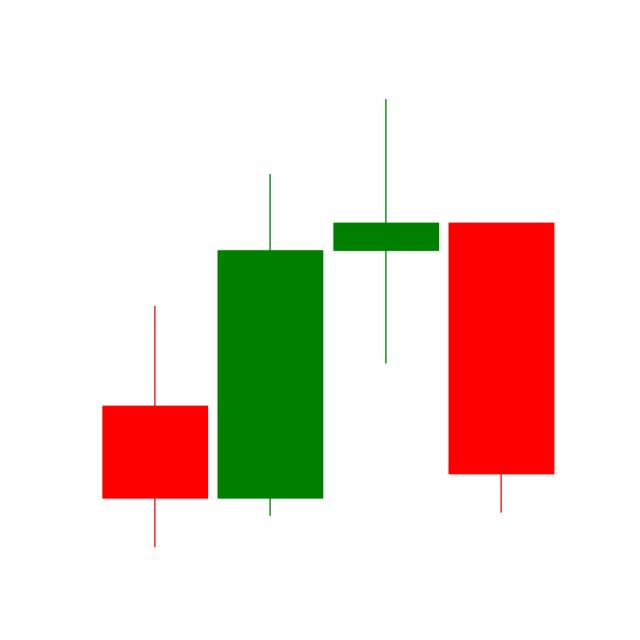Hammer: (328, 95, 444, 366)
